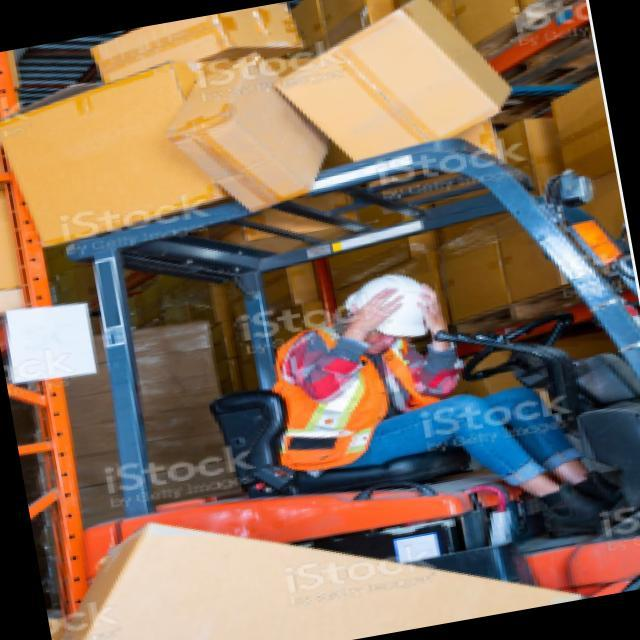boots: (517, 457, 640, 550)
helmet: (344, 261, 455, 359)
vest: (251, 300, 464, 485)
